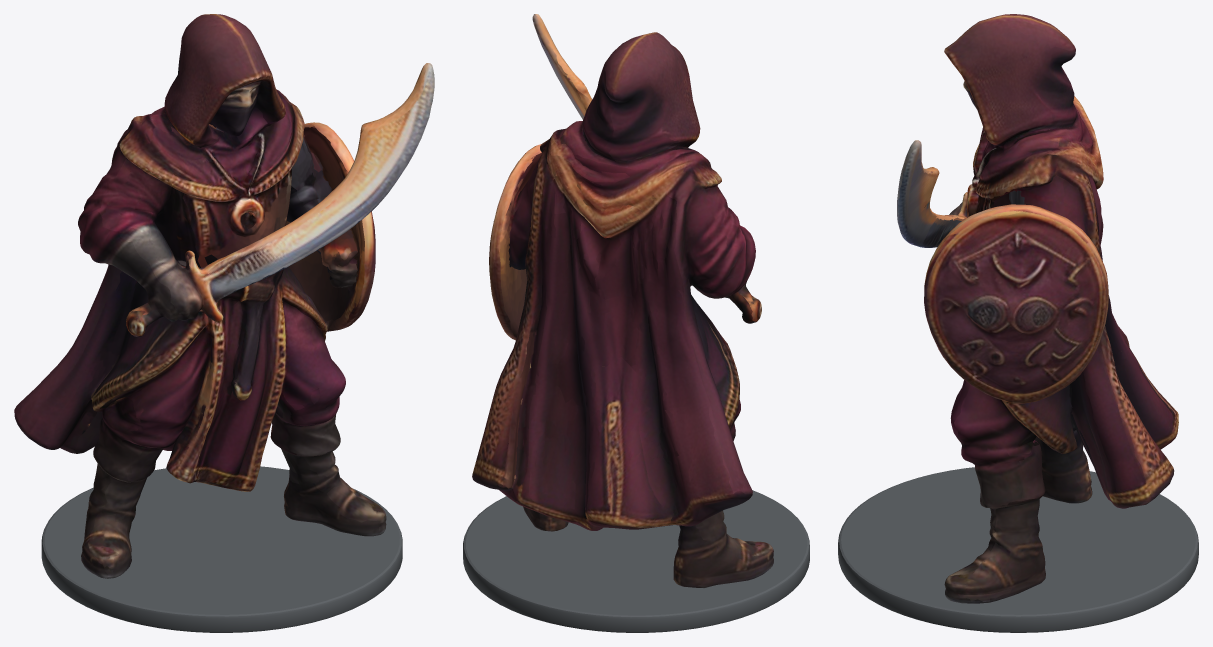
Rendered from cultist.glb.
3 renders of one model, left to right at view 1: azimuth 30°, elevation 25°; view 2: azimuth 150°, elevation 25°; view 3: azimuth 270°, elevation 25°, orthographic. The views are drawn at different scales.
Visible parts, largest first — view 1: cultist_body, cultist_round_base; view 2: cultist_body, cultist_round_base; view 3: cultist_body, cultist_round_base.
Part boxes in pixels (<box>): cultist_body: <box>14,14,434,578</box>; cultist_round_base: <box>41,466,402,632</box>; cultist_body: <box>472,14,773,587</box>; cultist_round_base: <box>463,490,809,632</box>; cultist_body: <box>897,14,1178,603</box>; cultist_round_base: <box>838,467,1198,632</box>.
Bounding box in the file's own units: 1.02 × 1.65 × 1.
2 materials, 1 textured.
